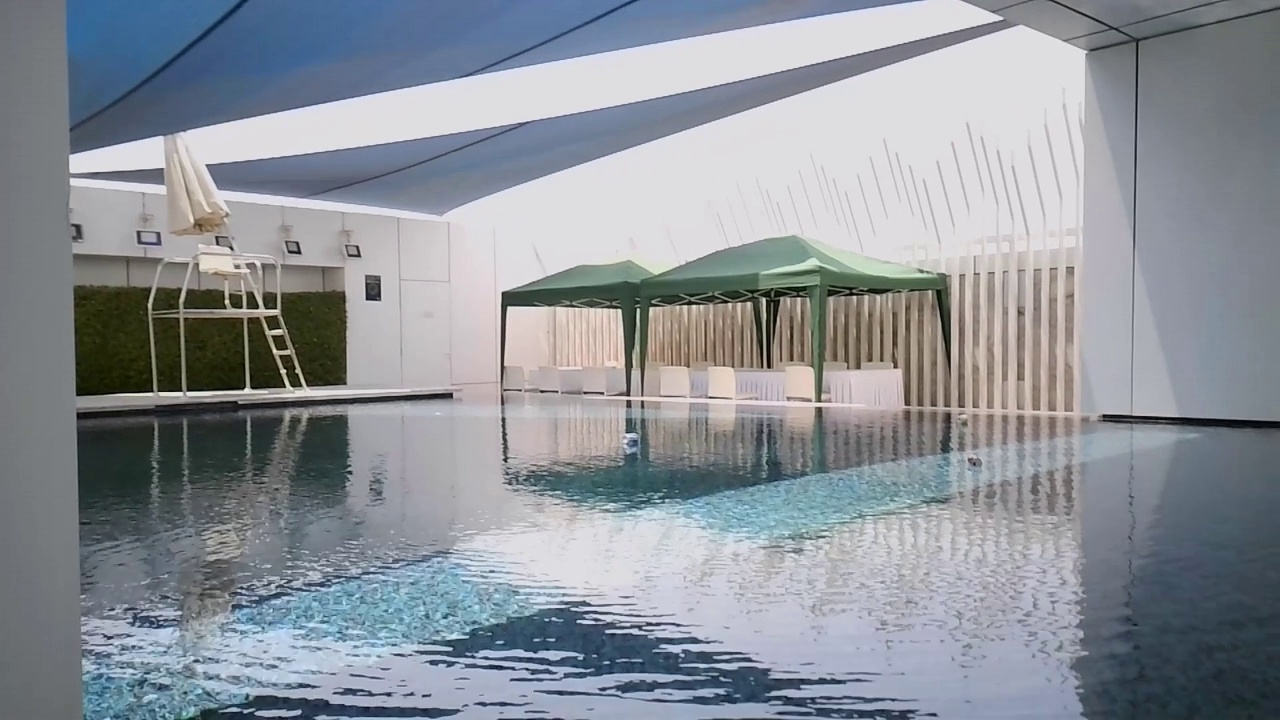debris: (617, 431, 642, 449), (953, 411, 971, 428), (965, 453, 982, 469)
